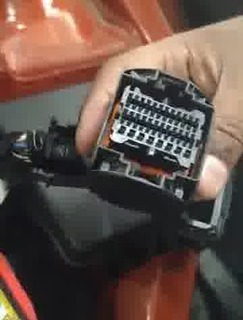connector: (87, 67, 215, 213)
